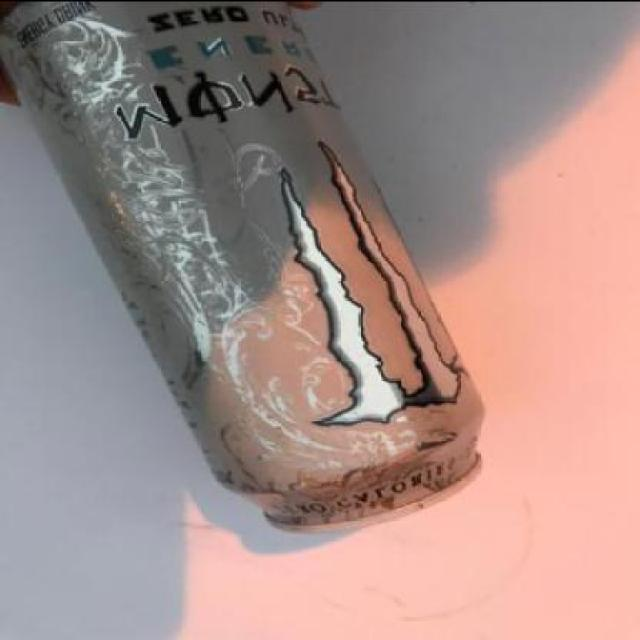METAL: (2, 1, 486, 534)
